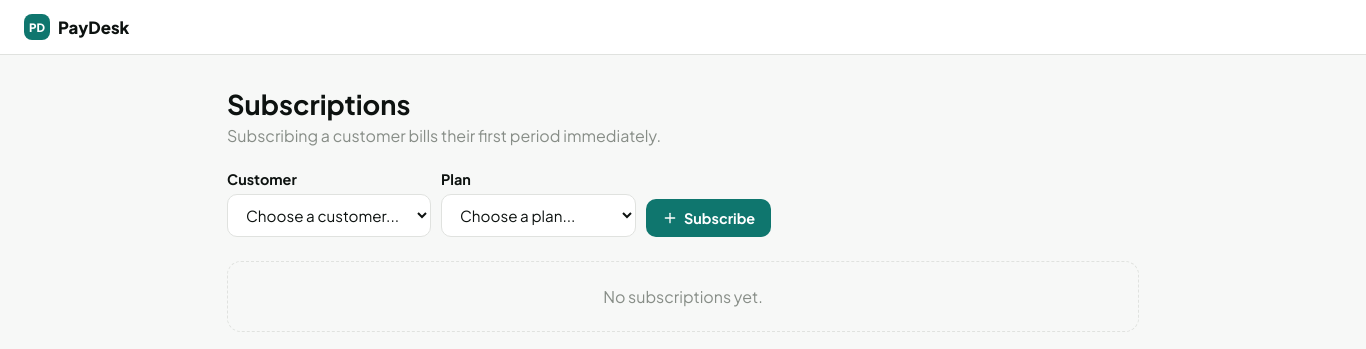
Test: SubscriptionsPage › creates a subscription from the selected customer and plan
Expected: the text "No subscriptions yet." is shown, [227, 261, 1139, 332]
Select "Alex Customer" in the dropdown labelled "Customer" at (329, 216), box [227, 194, 431, 237]
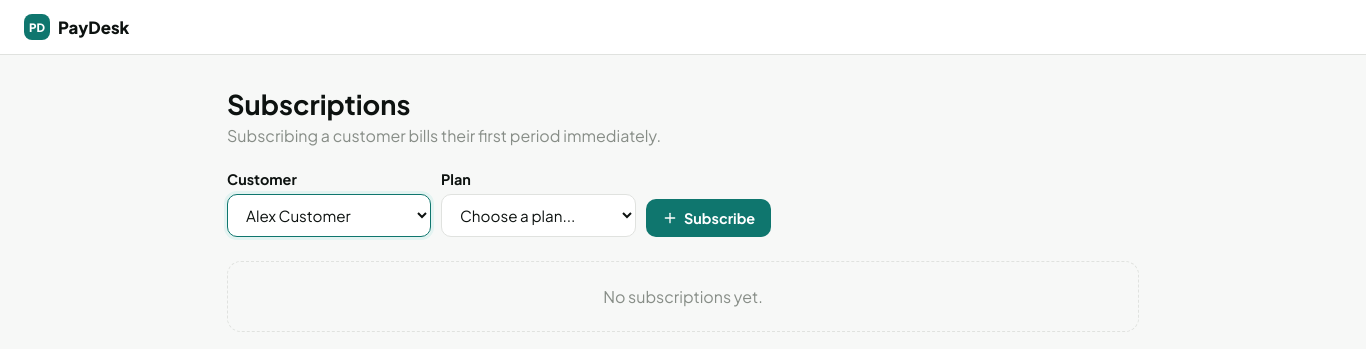
Select "Pro ($29.00/month)" in the dropdown labelled "Plan" at (538, 216), box [441, 194, 636, 237]
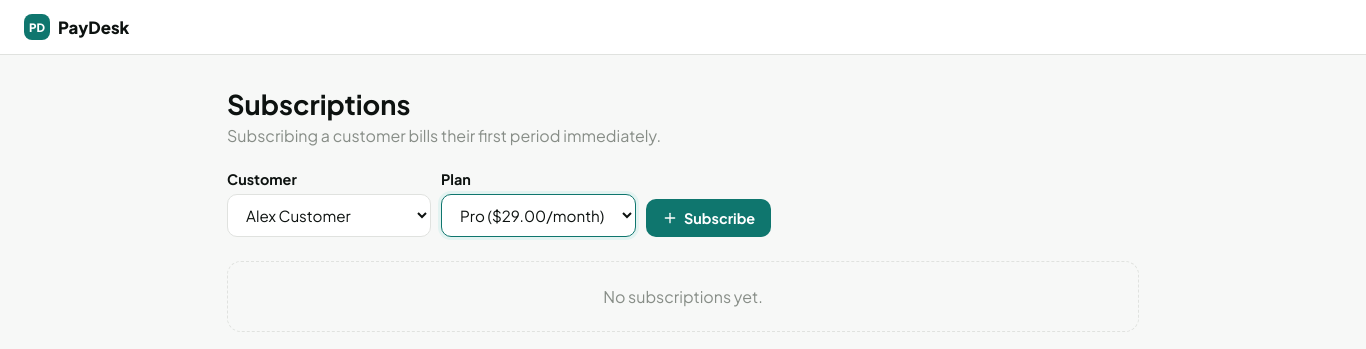
Click the button "Subscribe" at (709, 218), box [646, 199, 771, 237]
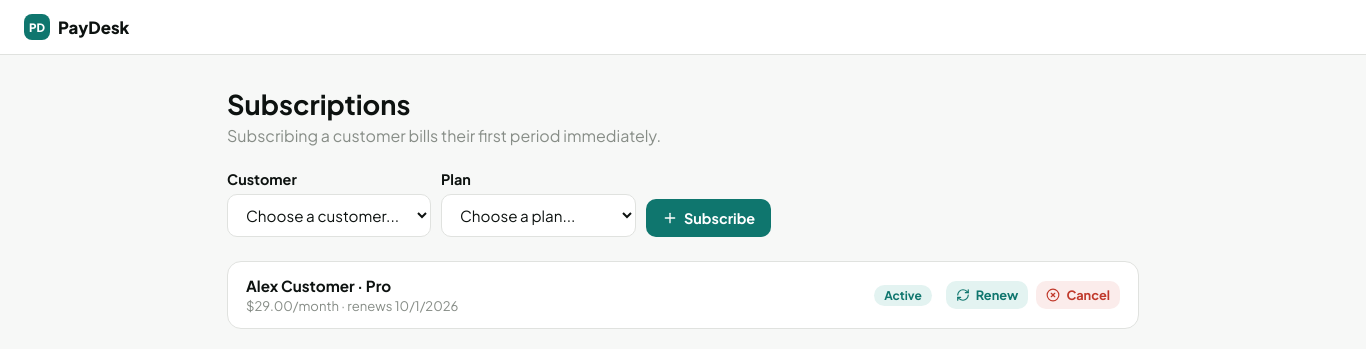
Now the list is shown, box [227, 261, 1139, 329]
Now the text "Alex Customer · Pro" is shown, box [246, 276, 391, 295]
